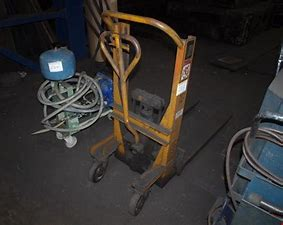Pallet Jack: (88, 6, 235, 218)
